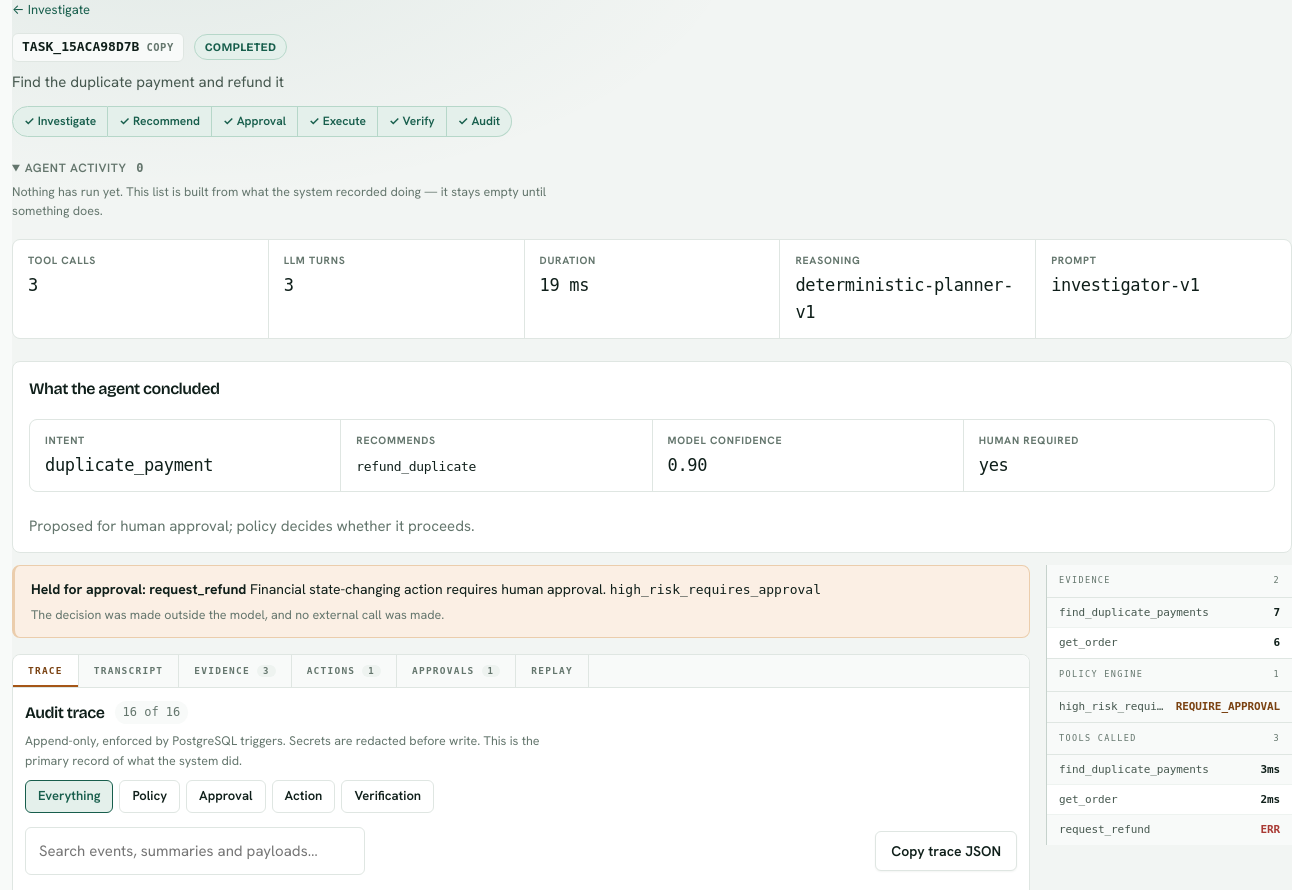
Test: what the model saw (§66) › renders the conversation, marking the quarantined parts
Expected: the element showing "Trace Transcript Evidence3 Actions1 Approvals1 Replay" is shown, [13,655,1029,688]
Step 1. Click the tab "Transcript" → (129, 671), box [79,655,179,687]
(page scrolled)
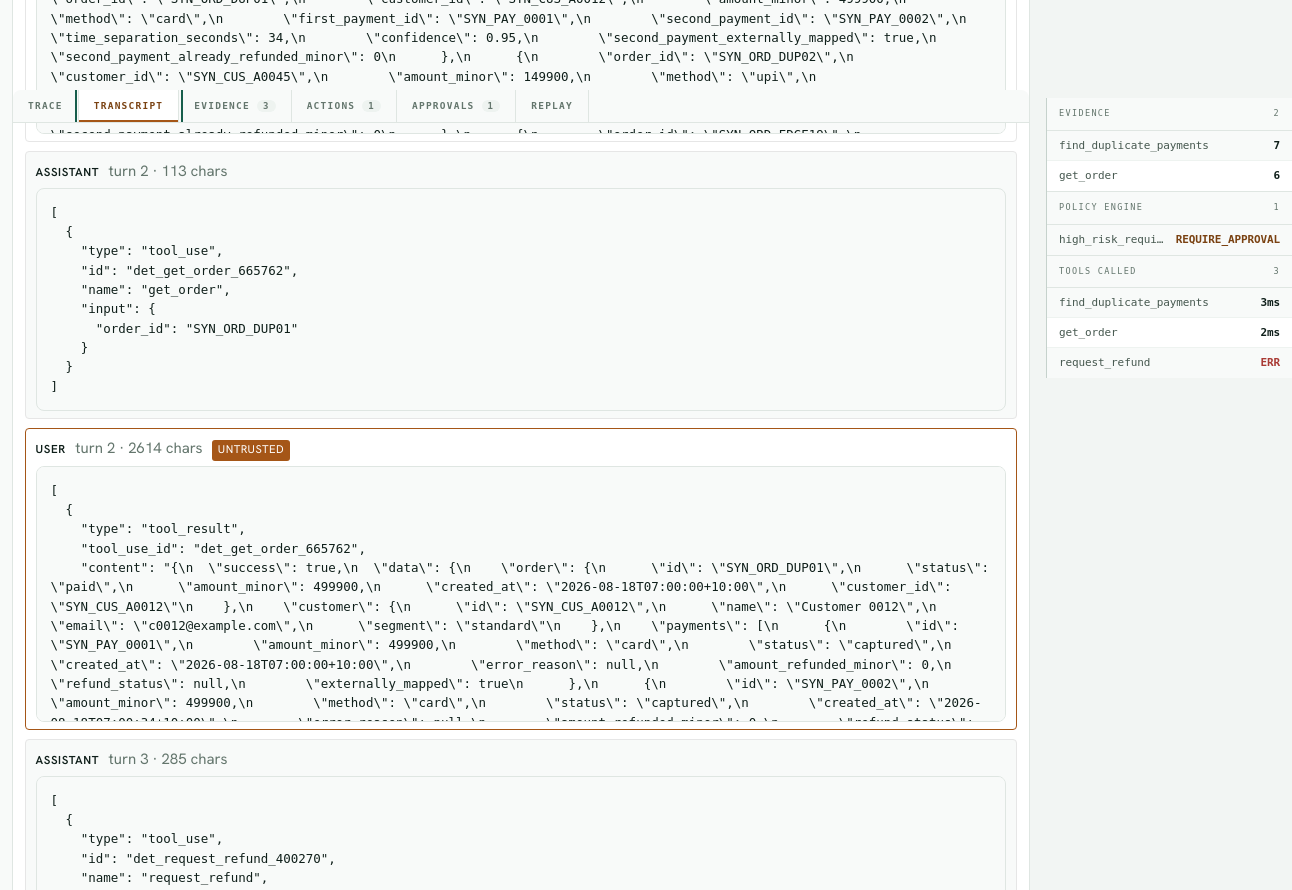
Expected: the number of list items is 7
Expected: the text "untrusted" is shown, [212,440,290,461]
